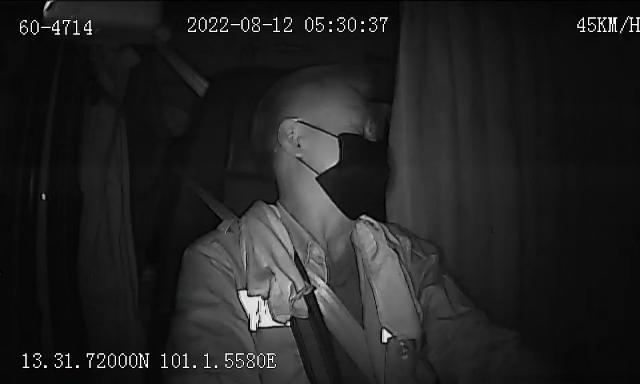Seatbelt: (195, 186, 373, 384)
